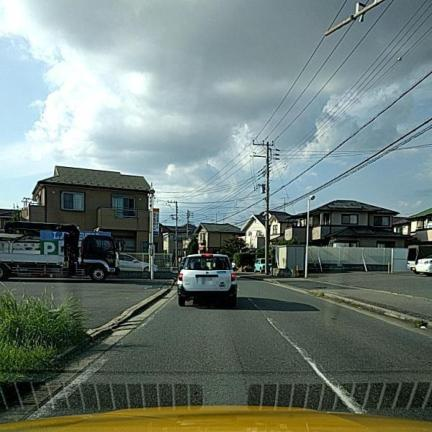Road: (44, 280, 431, 419)
